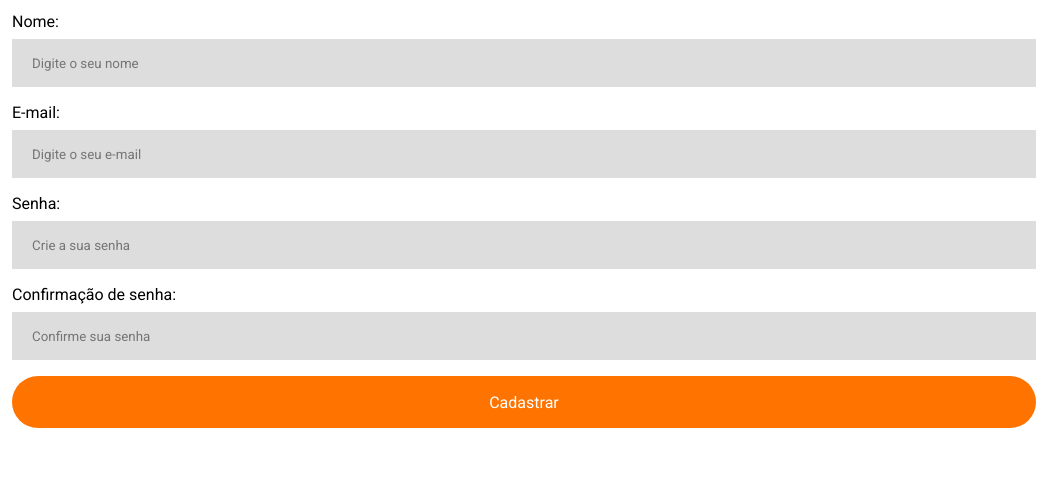
<RegisterForm /> › should show error when email is invalid
The image size is (1048, 499).
Expected: the field with placeholder "Digite o seu e-mail" is shown, [12,130,1036,178]
Expected: the password field with placeholder "Crie a sua senha" is shown, [12,221,1036,269]
Type "Ru" into the field with placeholder "Digite o seu nome" at coordinates (524, 63), box [12,39,1036,87]
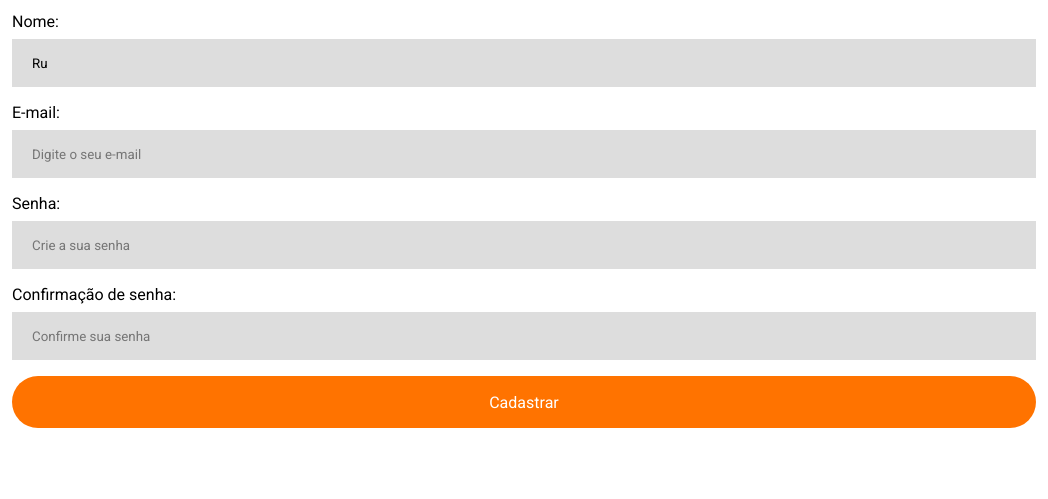
Type "josedasilva" into the field with placeholder "Digite o seu e-mail" at coordinates (524, 154), box [12,130,1036,178]
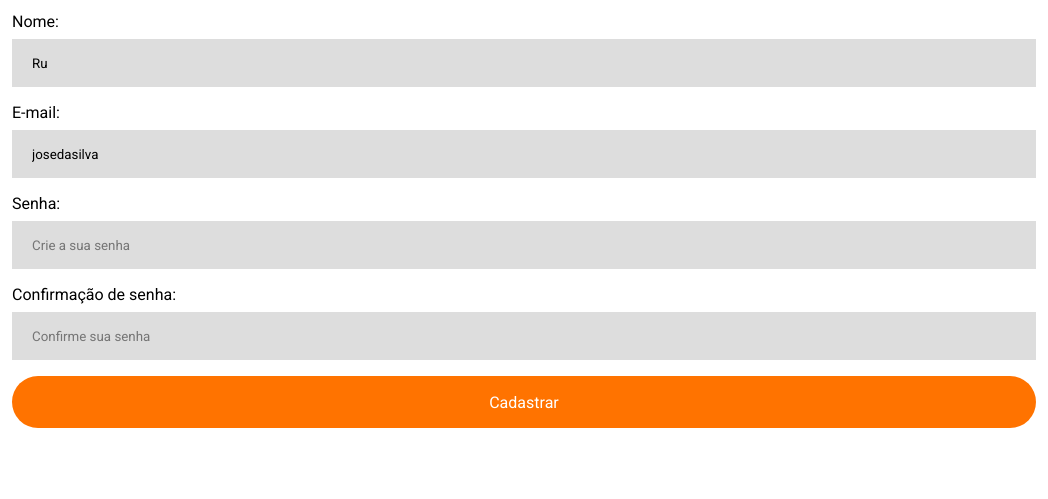
Type "@12Patinhos" into the password field with placeholder "Crie a sua senha" at coordinates (524, 245), box [12,221,1036,269]
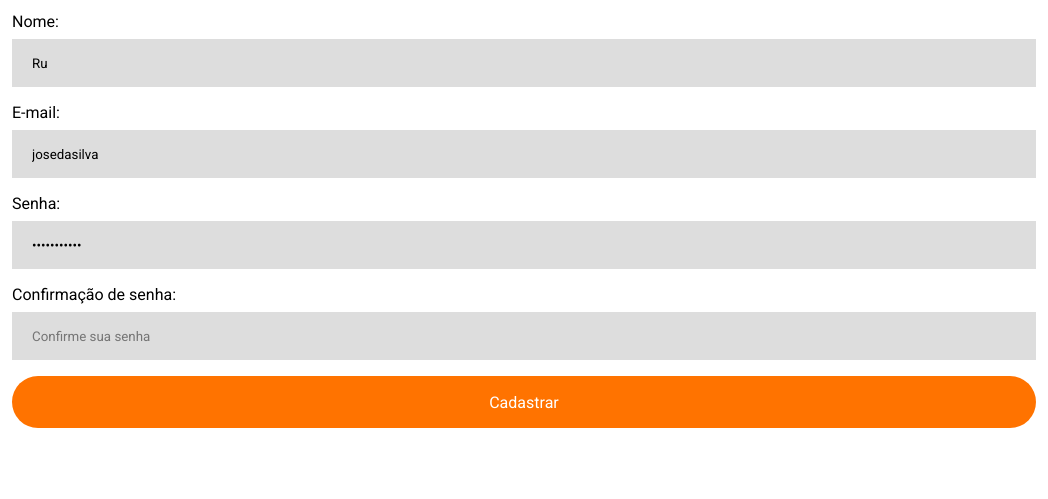
Type "@12Patinhos" into the password field with placeholder "Confirme sua senha" at coordinates (524, 336), box [12,312,1036,360]
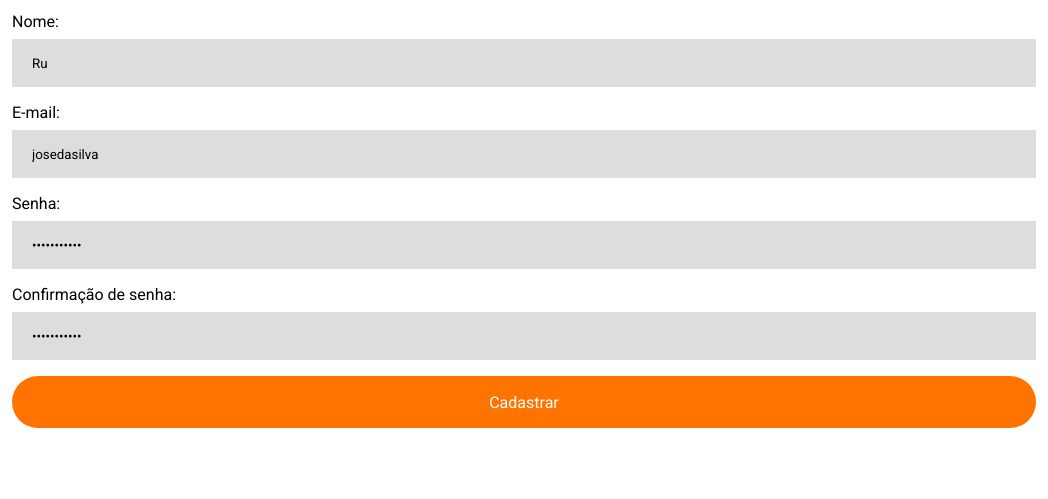
Submit the form from the button "Cadastrar", box [12,376,1036,428]
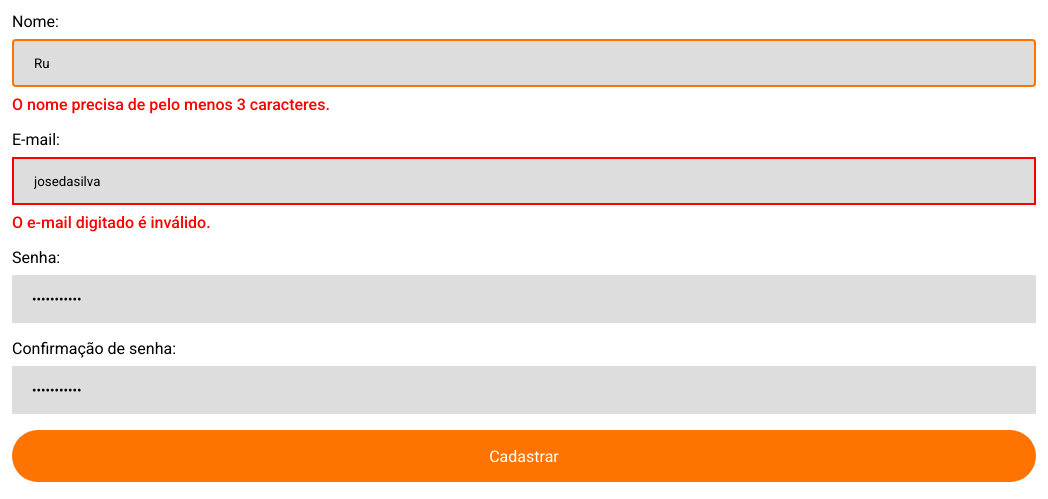
Now the text "O e-mail digitado é inválido." is shown, box [12,213,211,232]
